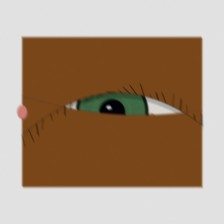hemorrhage_spot: (96, 101, 161, 154)
